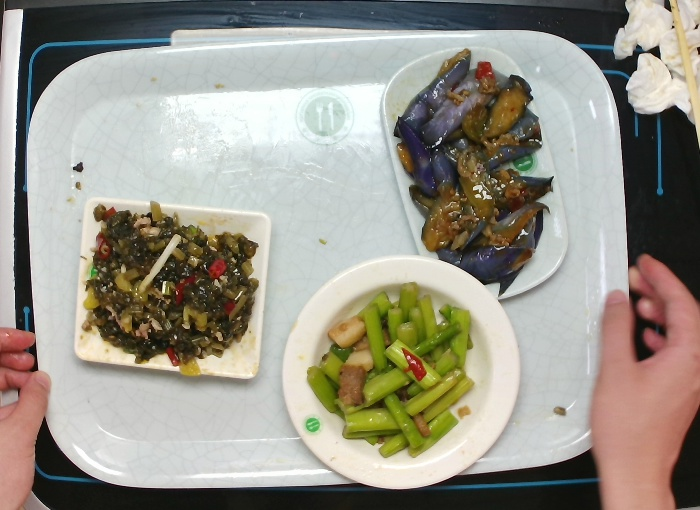WCQzf-Bai_Se_Si_Fang_Die: (70, 192, 270, 383)
WCQzf-Kuan_Bian_Yuan_Die: (278, 253, 524, 489)
WCQzf-Tuo_Yuan_Pan: (380, 44, 572, 304)
